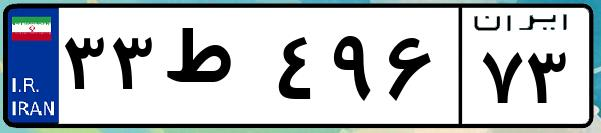3: (57, 26, 110, 100), (525, 38, 570, 115), (110, 28, 158, 98)
4: (270, 28, 330, 110)
6: (385, 28, 445, 110)
7: (475, 38, 525, 113)
9: (330, 28, 385, 110)
ط: (158, 20, 270, 120)
